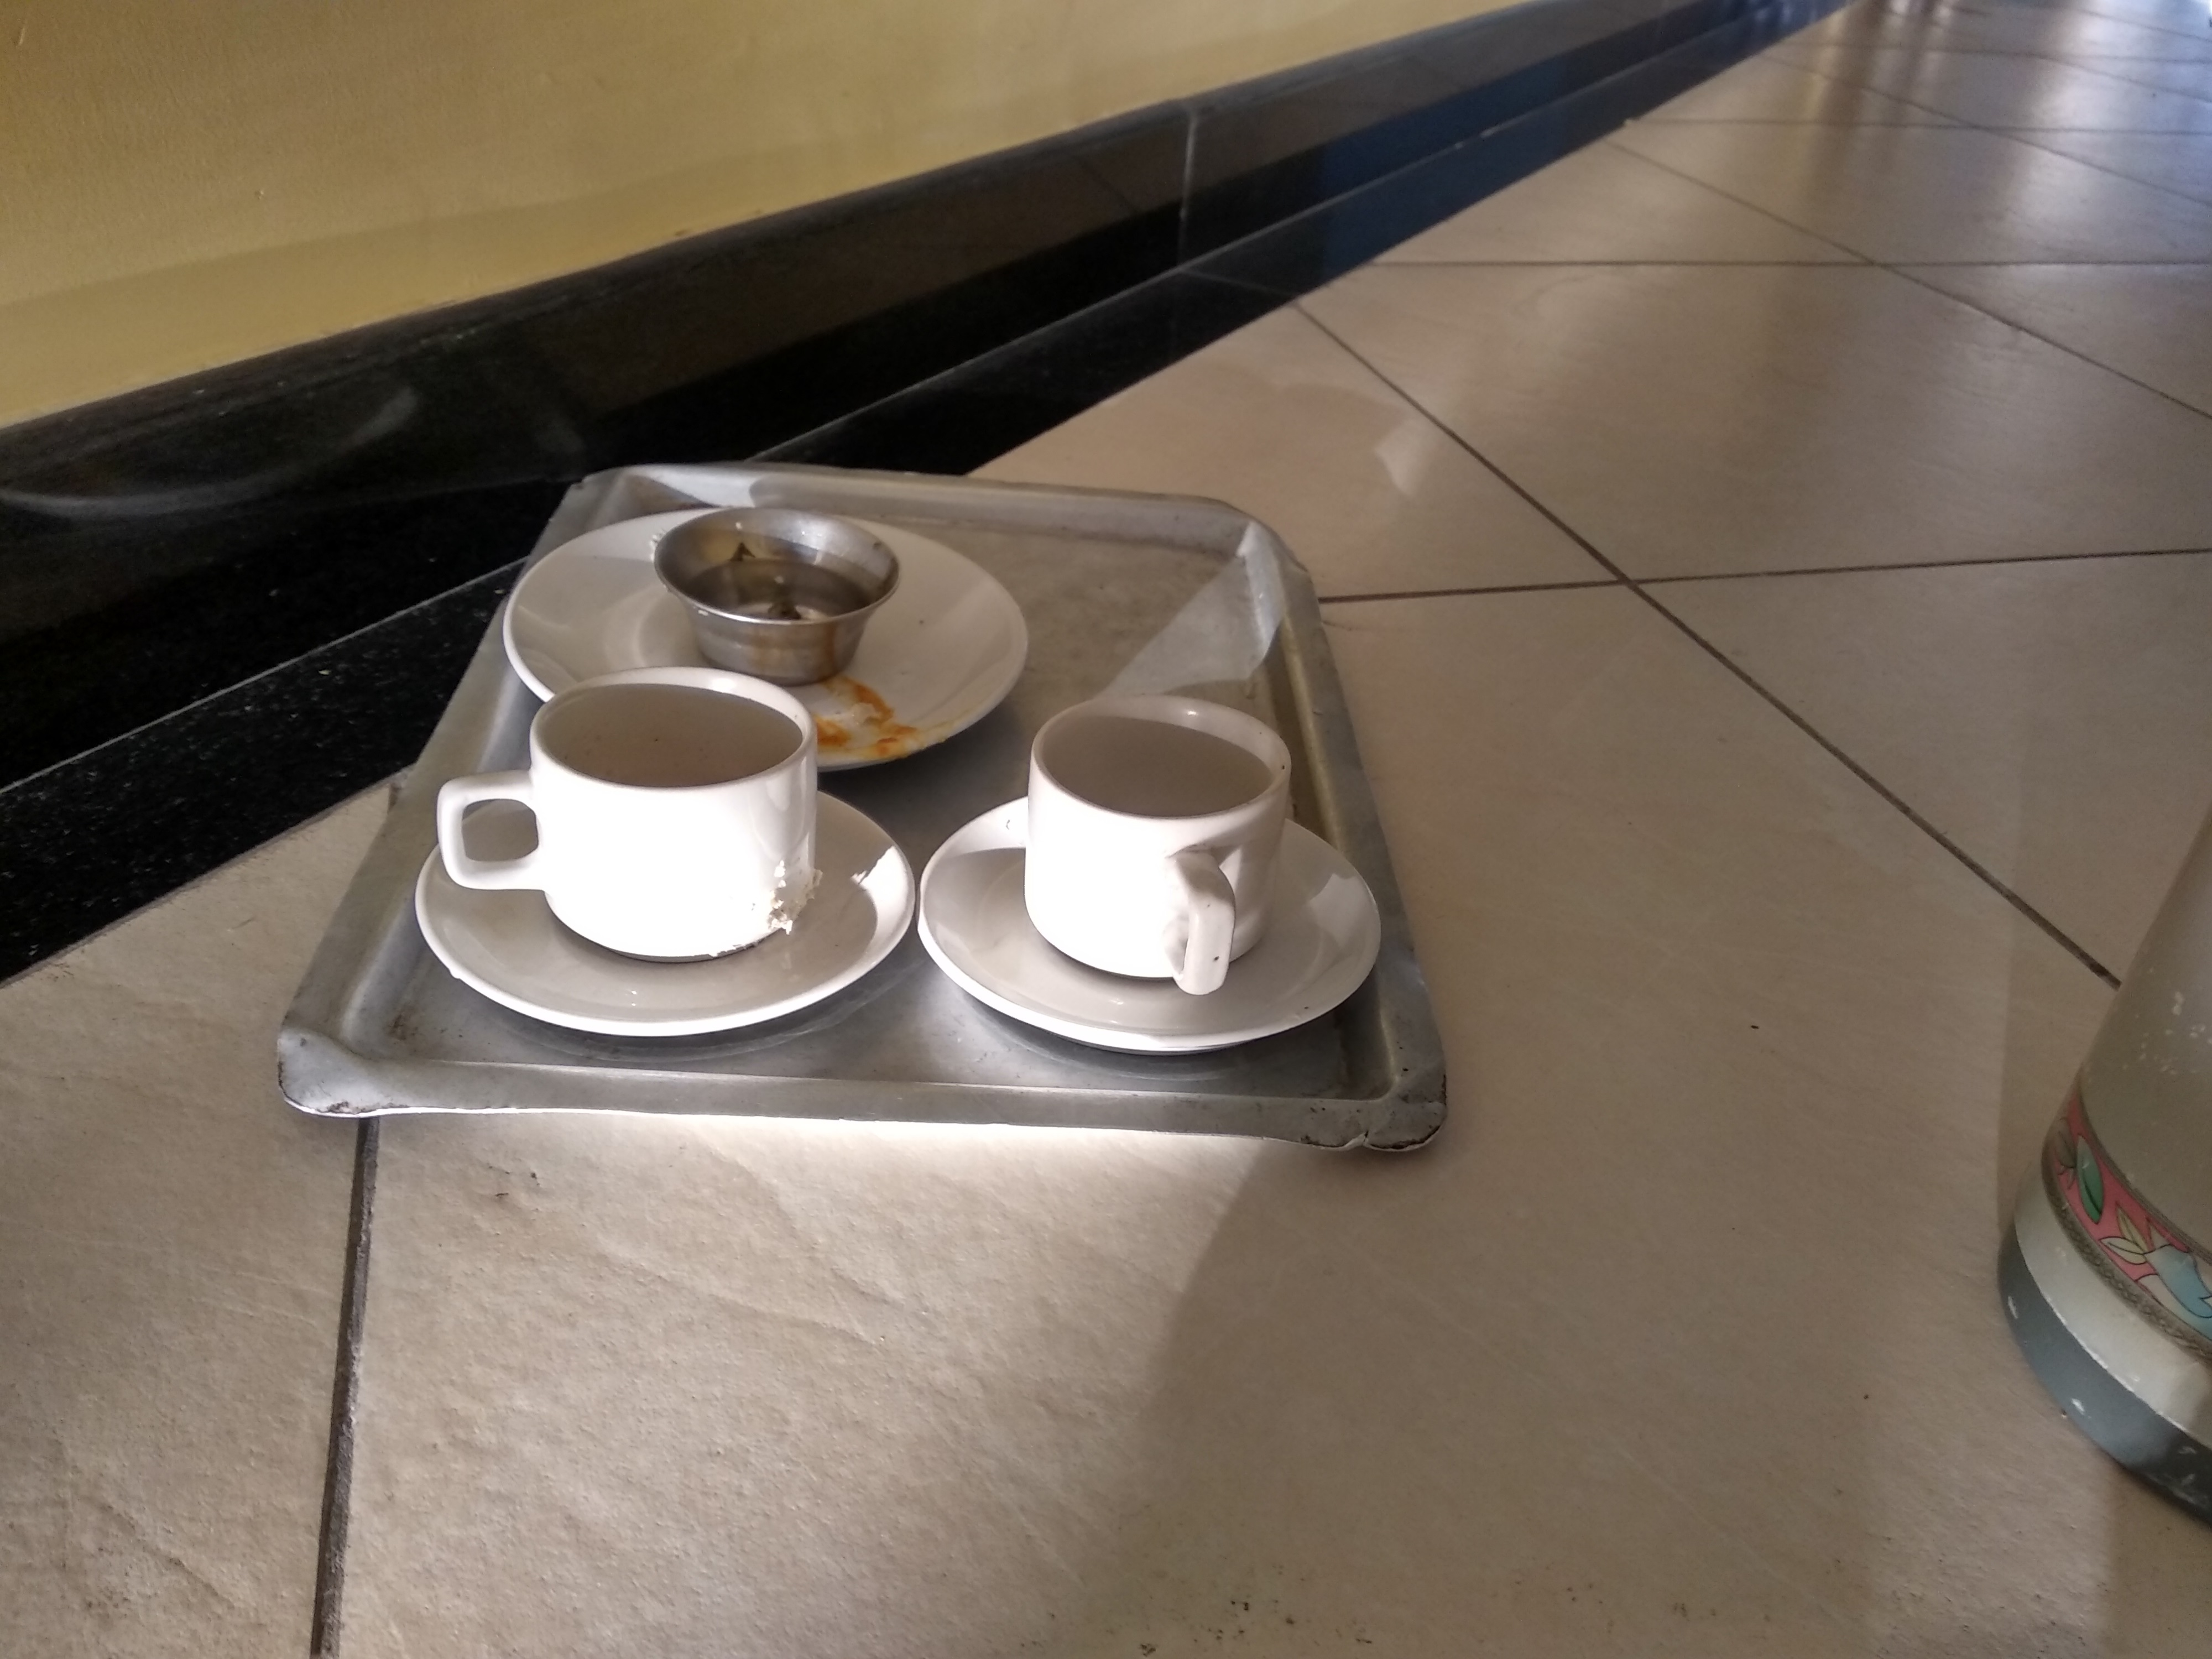CUP: (416, 659, 846, 976), (996, 680, 1331, 1026), (648, 497, 909, 650)
